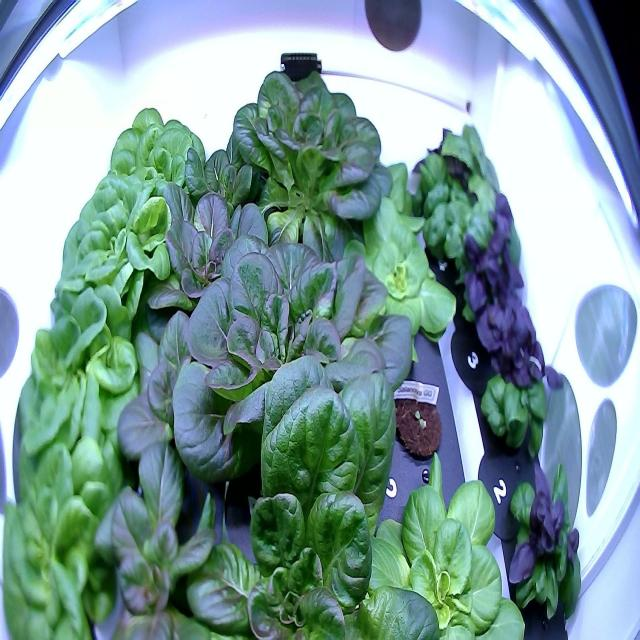Ready: (162, 333, 446, 640), (169, 203, 421, 518), (224, 59, 395, 282), (0, 427, 153, 640), (12, 277, 164, 482), (45, 162, 183, 344), (100, 94, 208, 220)
germination: (387, 367, 448, 467)
young: (341, 441, 535, 639), (111, 289, 255, 536), (76, 431, 244, 640), (328, 188, 462, 368), (142, 174, 273, 347), (330, 145, 431, 246), (164, 132, 257, 228)
